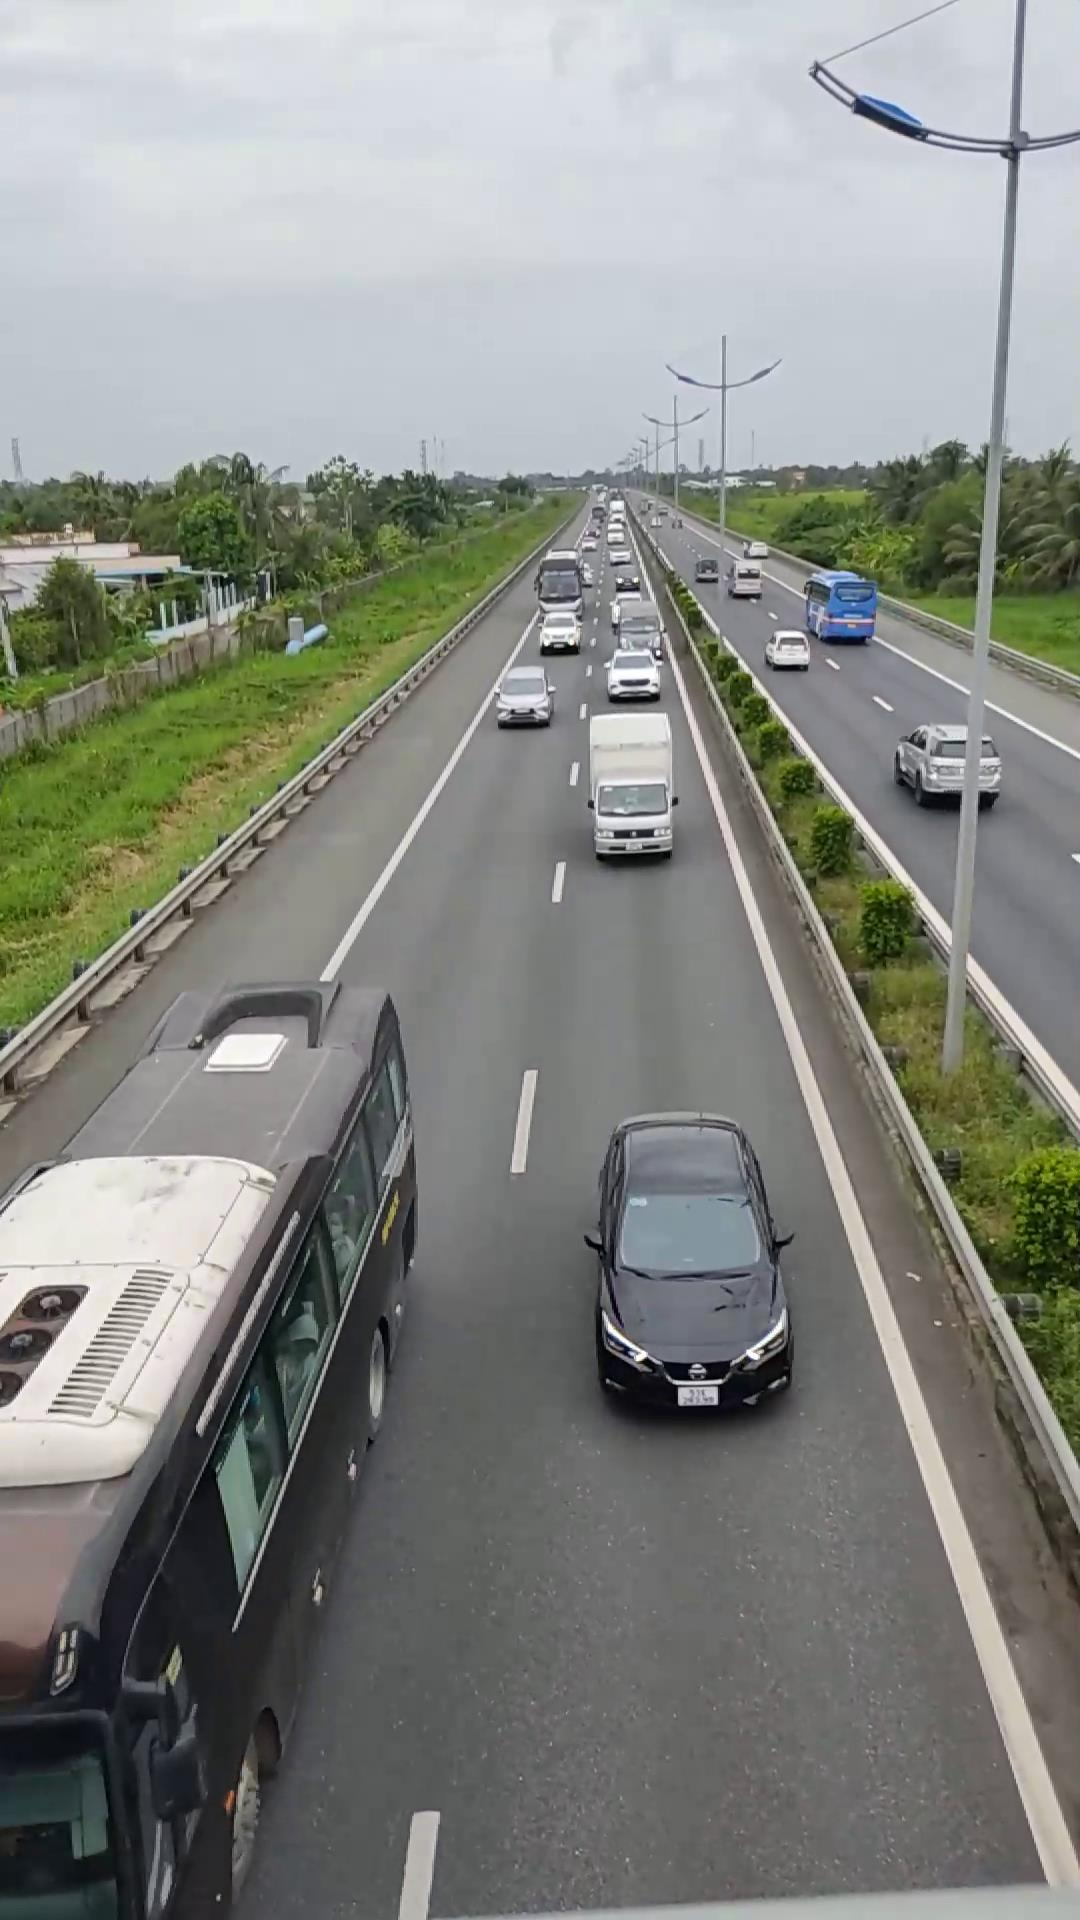bus: (0, 979, 415, 1916)
car: (584, 1110, 797, 1415)
truck: (579, 710, 680, 861)
